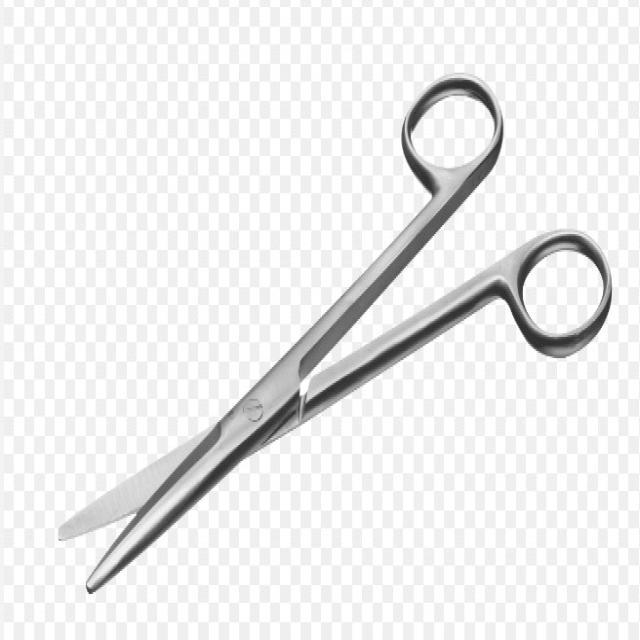Straight Mayo: (54, 65, 612, 598)
